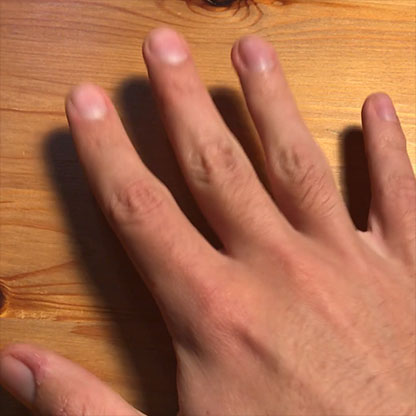fingertip: (230, 26, 282, 80), (141, 22, 196, 70), (58, 79, 114, 125), (356, 88, 401, 130)
